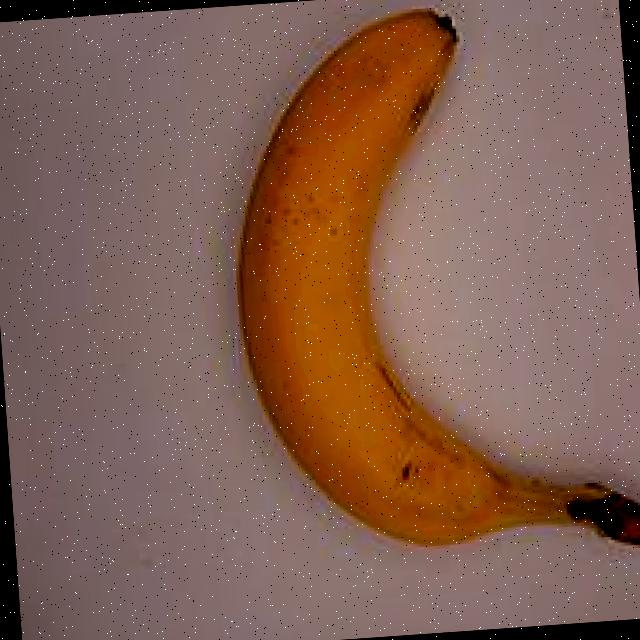Ripe: (175, 0, 640, 599)
